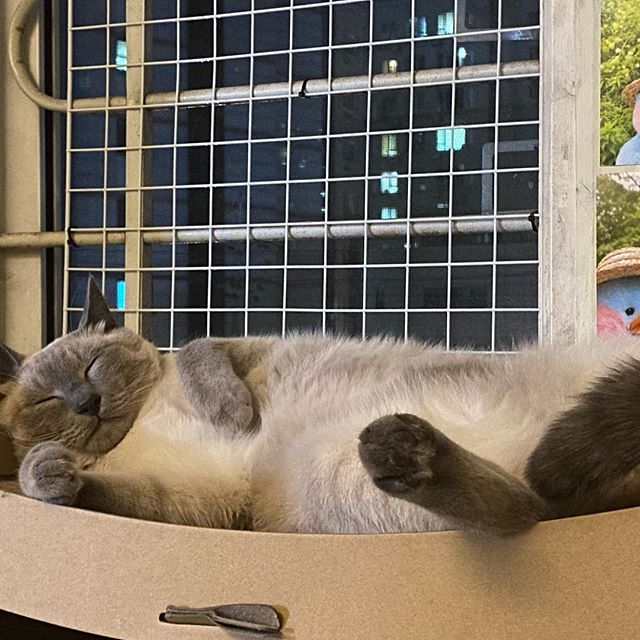cat: (1, 282, 173, 455)
